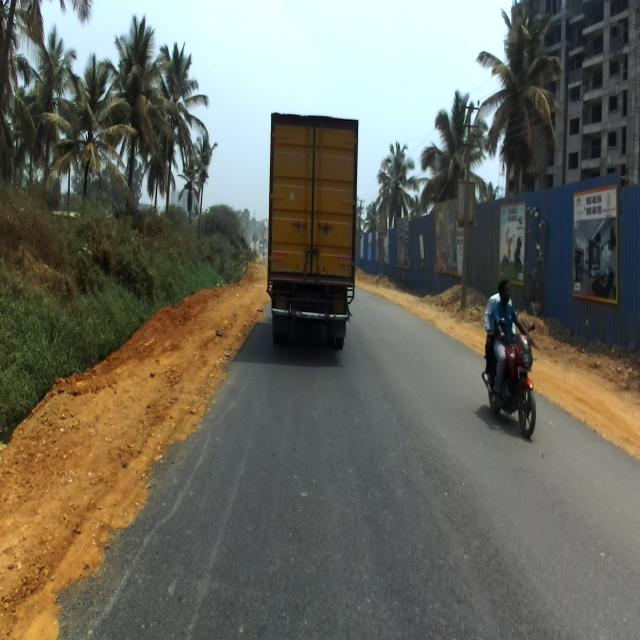motorcycle ahead at: (482, 309, 538, 437)
truck ahead at: (269, 108, 359, 354)
